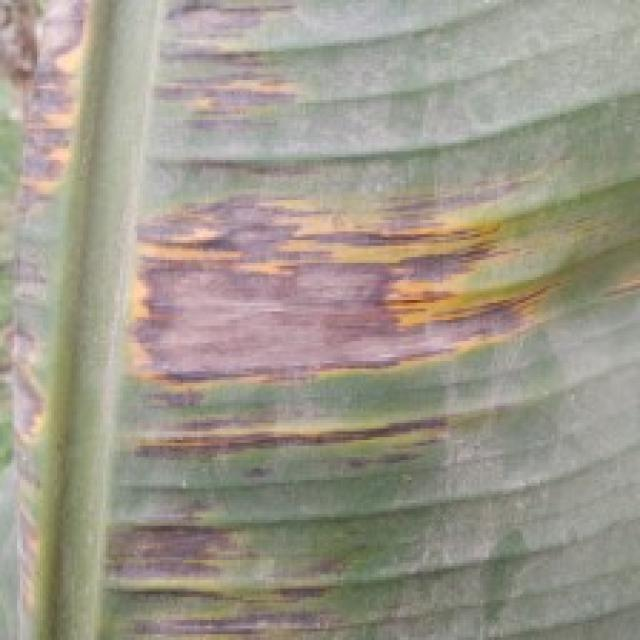Early_leaf_spot: (112, 166, 559, 377), (0, 0, 97, 593), (88, 480, 437, 640), (111, 404, 496, 492), (142, 0, 310, 131), (557, 187, 640, 339)
